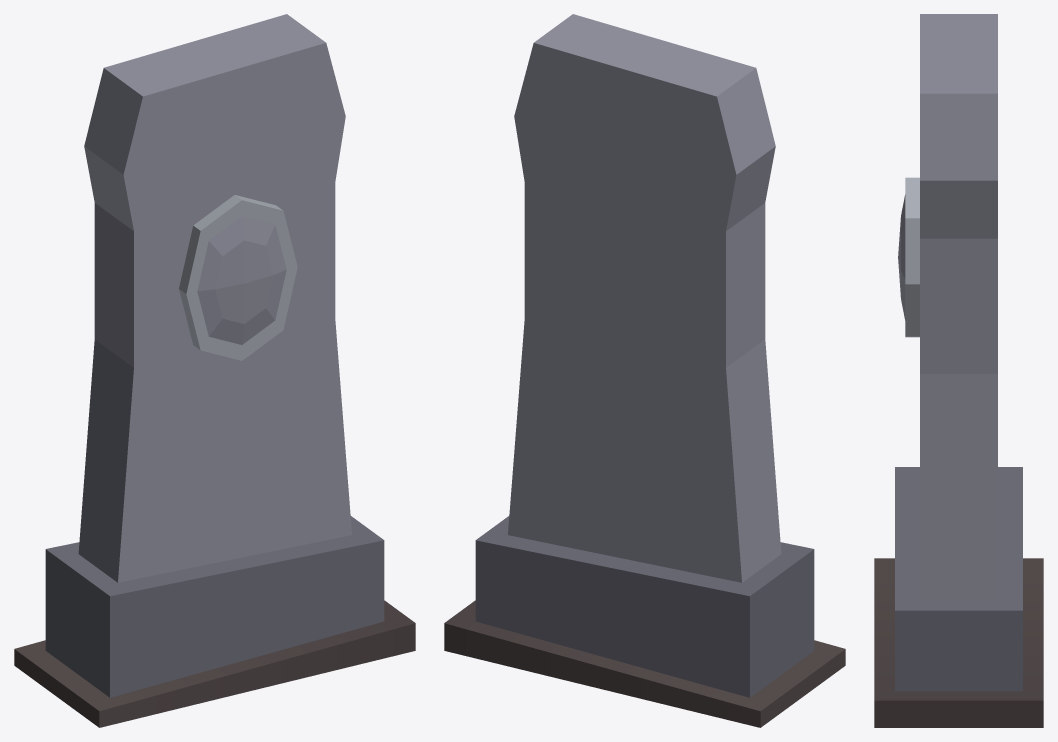
The model's file is HWN20_Grave_17.glb.
3 renders of one model, left to right at view 1: azimuth 30°, elevation 25°; view 2: azimuth 150°, elevation 25°; view 3: azimuth 270°, elevation 25°, orthographic.
Parts seen in each view (by area): view 1: HWN20_Grave_17; view 2: HWN20_Grave_17; view 3: HWN20_Grave_17.
Part boxes in pixels (x1,y1,x2,y2): HWN20_Grave_17: (14,14,415,727); HWN20_Grave_17: (444,14,845,727); HWN20_Grave_17: (874,14,1043,727).
Size of what is drawn, in the model's own units: 0.9895 by 1.82 by 0.4619.
Materials: 1 (1 with a texture image).
